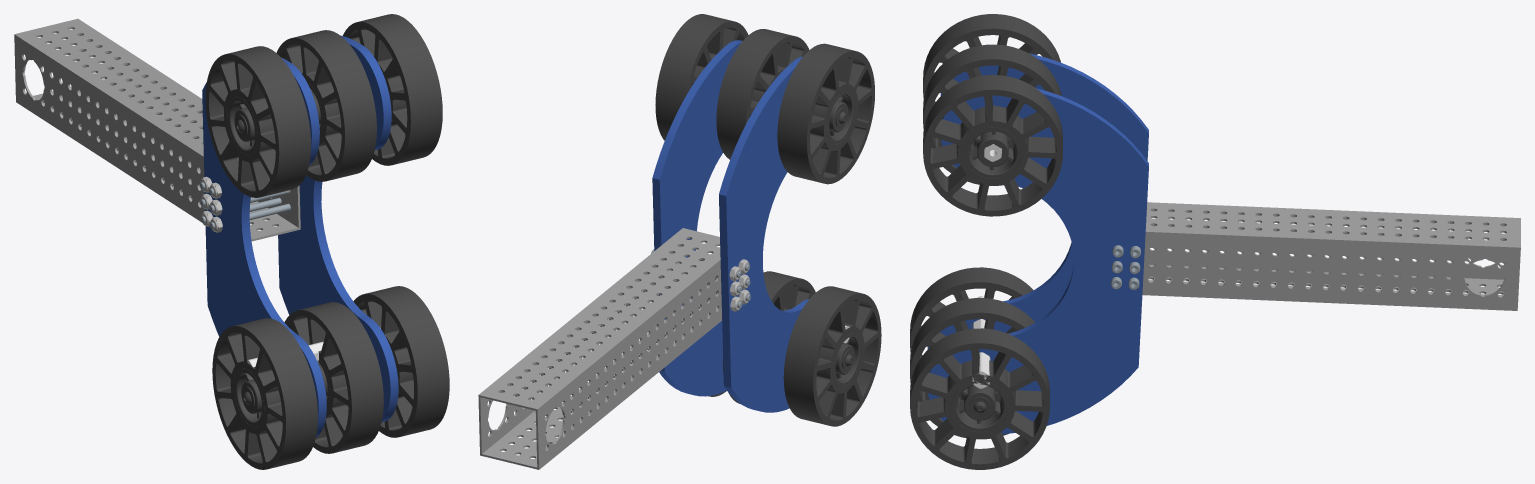
3 views of the same model, side by side, from view 1: azimuth 30°, elevation 25°; view 2: azimuth 150°, elevation 25°; view 3: azimuth 270°, elevation 25° (orthographic). The views are drawn at different scales.
Parts seen in each view (by area): view 1: 4" OD 1/2" Hex Bore Compliant Wheel 35A (am-3480) (×6), Tube 2"x2"x12", Part 7, Part 6; view 2: 4" OD 1/2" Hex Bore Compliant Wheel 35A (am-3480) (×5), Tube 2"x2"x12", Part 7, Part 6; view 3: 4" OD 1/2" Hex Bore Compliant Wheel 35A (am-3480) (×6), Tube 2"x2"x12", Part 6, Part 7.
Boxes of the visible parts, x1,y1,x2,y2 form: 4" OD 1/2" Hex Bore Compliant Wheel 35A (am-3480) (×6): (205,14,449,469); Tube 2"x2"x12": (14,18,300,241); Part 7: (202,57,326,437); Part 6: (278,35,398,422); 4" OD 1/2" Hex Bore Compliant Wheel 35A (am-3480) (×5): (655,14,881,426); Tube 2"x2"x12": (478,228,721,469); Part 7: (719,56,808,412); Part 6: (652,40,742,396); 4" OD 1/2" Hex Bore Compliant Wheel 35A (am-3480) (×6): (910,14,1062,469); Tube 2"x2"x12": (1142,202,1520,310); Part 6: (928,88,1148,434); Part 7: (927,53,1148,349).
Bounding box in the file's own units: 0.1371 × 0.3045 × 0.4434.
